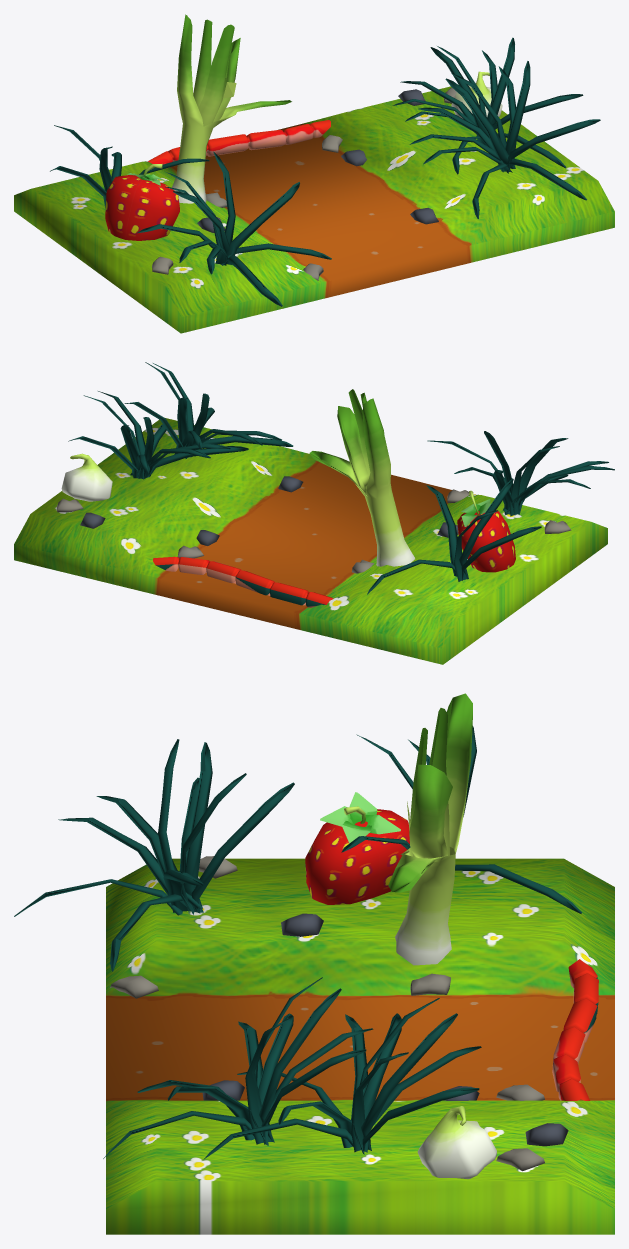
The model's file is D_block_01.FBX.
The picture shows the model from 3 angles, top to bottom: view 1: azimuth 30°, elevation 25°; view 2: azimuth 150°, elevation 25°; view 3: azimuth 270°, elevation 25°; orthographic projection. The views are drawn at different scales.
Visible parts, largest first — view 1: biome_01; view 2: biome_01; view 3: biome_01.
Boxes of the visible parts, x1,y1,x2,y2 form: biome_01: (14, 14, 614, 333); biome_01: (14, 362, 614, 664); biome_01: (14, 693, 614, 1234).
Bounding box in the file's own units: 1019 × 402 × 708.
